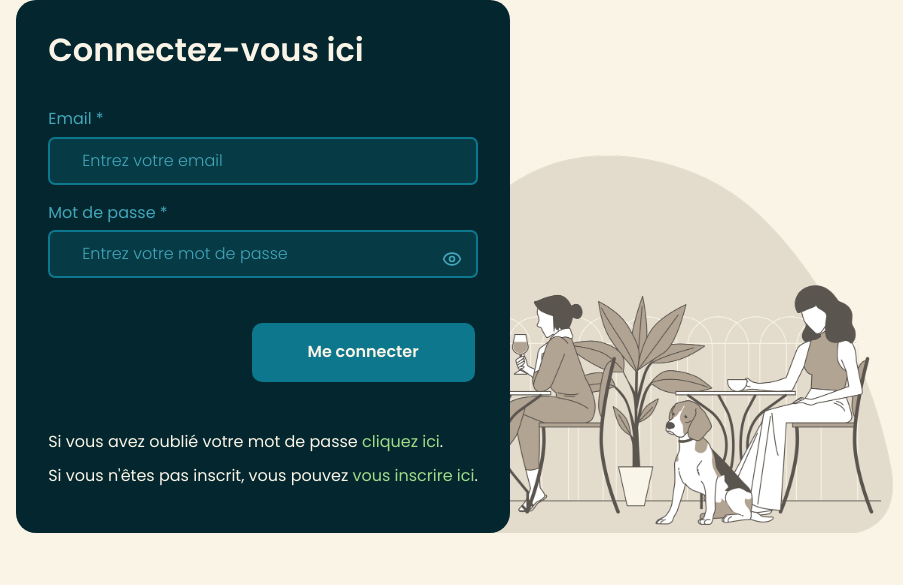
Test: Login › sends a login request with wrong credentials and handle errors
The width and height of the screenshot is (903, 585).
In the field labelled "Email *": point(263, 161) x1=48 y1=137 x2=478 y2=185, type "Youki@PawPlanner.com"
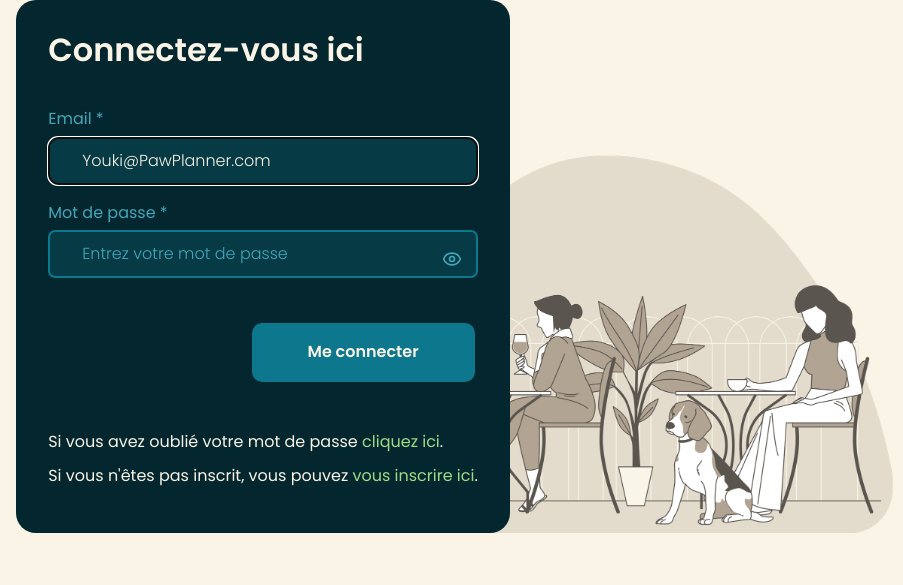
In the password field labelled "Mot de passe *": point(263, 254) x1=48 y1=230 x2=478 y2=278, type "wrongPassword"
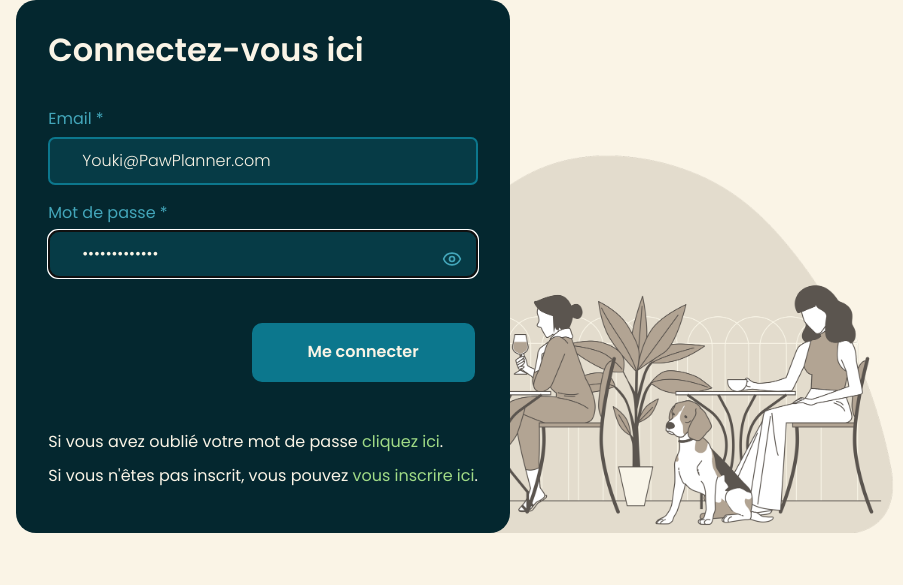
Click the button "Me connecter": point(363, 352) x1=252 y1=323 x2=475 y2=382
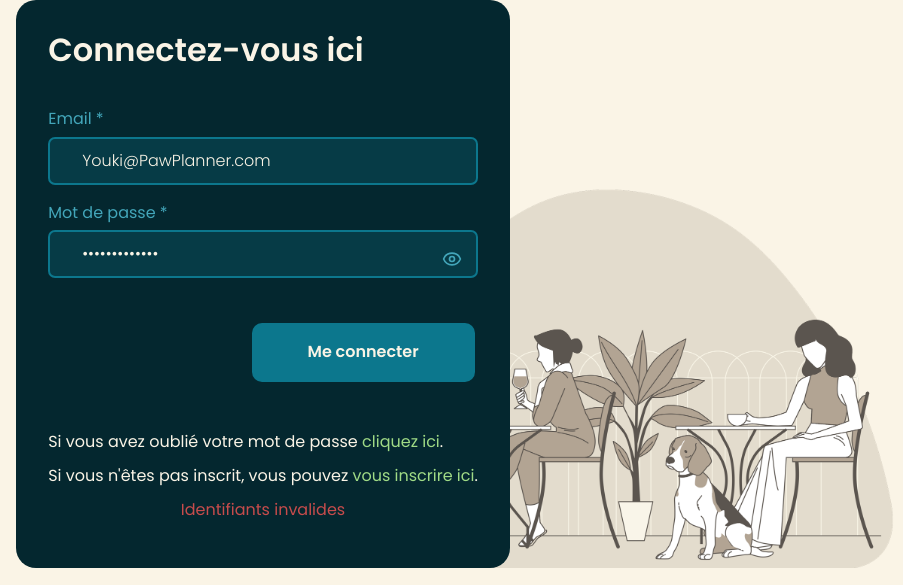
Now the text "Identifiants invalides" is shown, box x1=181 y1=498 x2=345 y2=522
